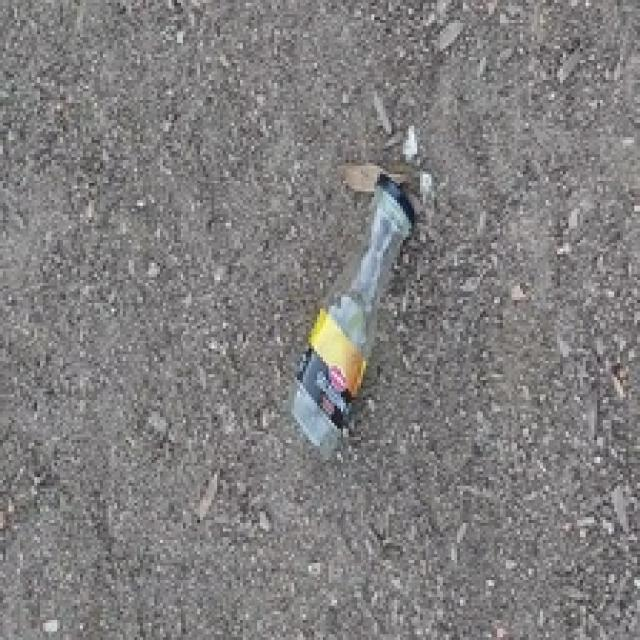Glass: (290, 191, 410, 458)
